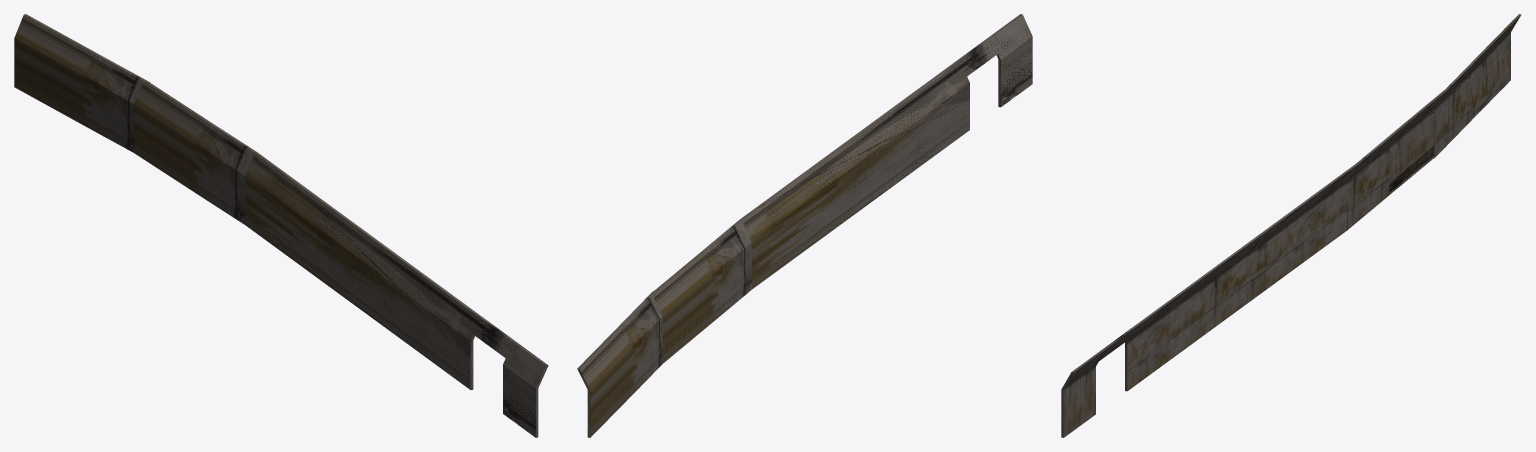
File: SM_subwall2.fbx
3 renders of one model, left to right at view 1: azimuth 30°, elevation 25°; view 2: azimuth 150°, elevation 25°; view 3: azimuth 330°, elevation 25°, orthographic. The views are drawn at different scales.
Visible parts, largest first — view 1: Cube.006; view 2: Cube.006; view 3: Cube.006.
Part boxes in pixels (x1,y1,x2,y2): Cube.006: [14, 14, 548, 437]; Cube.006: [577, 14, 1032, 437]; Cube.006: [1061, 14, 1521, 437].
Size of the model in its own units: 406 by 605 by 7745.
